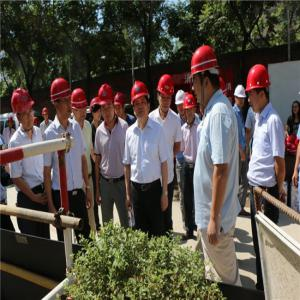none: (292, 100, 300, 117)
red: (192, 46, 219, 104), (246, 66, 272, 114), (12, 87, 35, 130), (52, 77, 73, 120), (131, 82, 150, 121), (157, 75, 174, 114), (99, 84, 115, 124), (71, 88, 88, 122), (114, 92, 128, 120), (185, 95, 197, 122), (91, 98, 103, 122), (42, 108, 50, 122), (8, 117, 15, 129)
white: (234, 86, 247, 109), (176, 92, 186, 115)
